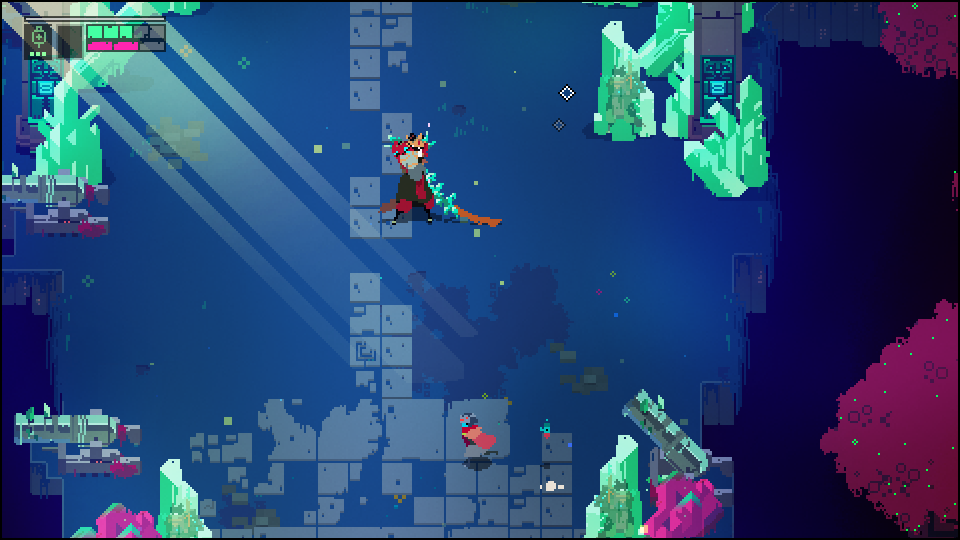hanged_man: (384, 133, 460, 224)
player: (457, 414, 495, 470)
